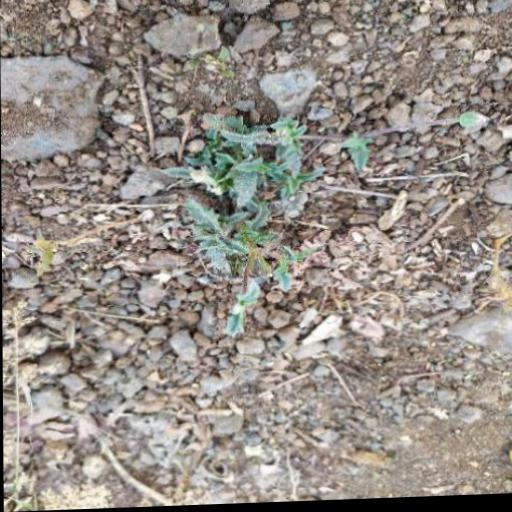weed: (177, 105, 379, 297)
